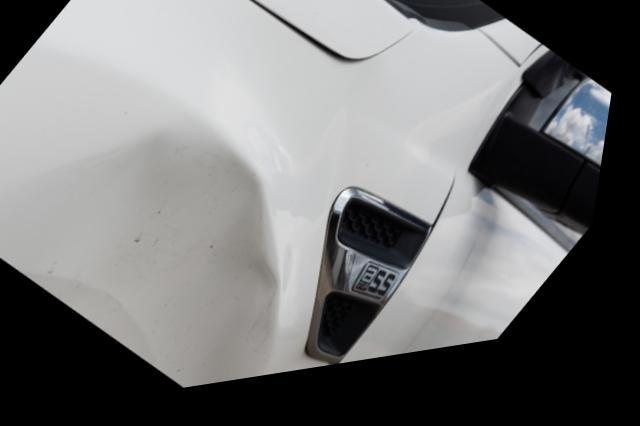dent: (0, 141, 287, 396)
